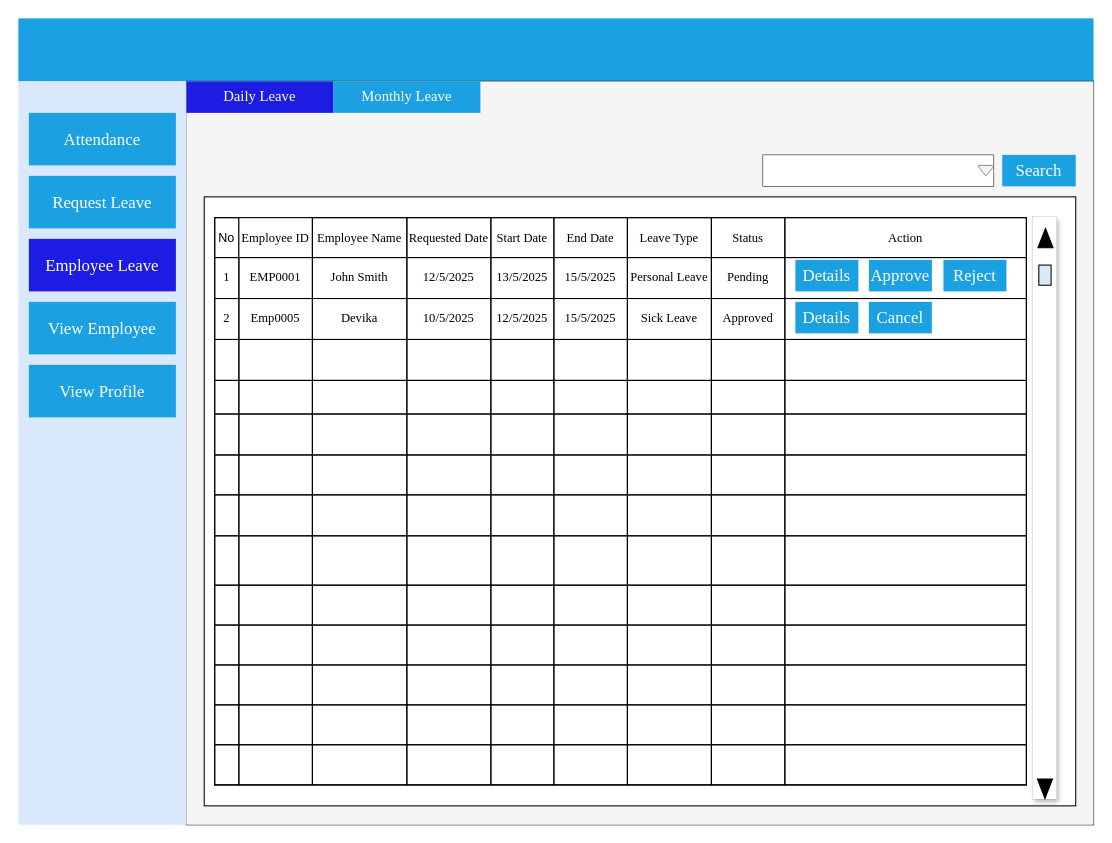
Image size: 1112x843. Some labels were removed from this diagram. The shapes that lost their labels are listed below. From the top down, each one's centre as x and y in pixels, then its label:
At point (555, 49): "Human Resource Management System".
At point (878, 170): "Wednesday May 13, 2025 🗓".
